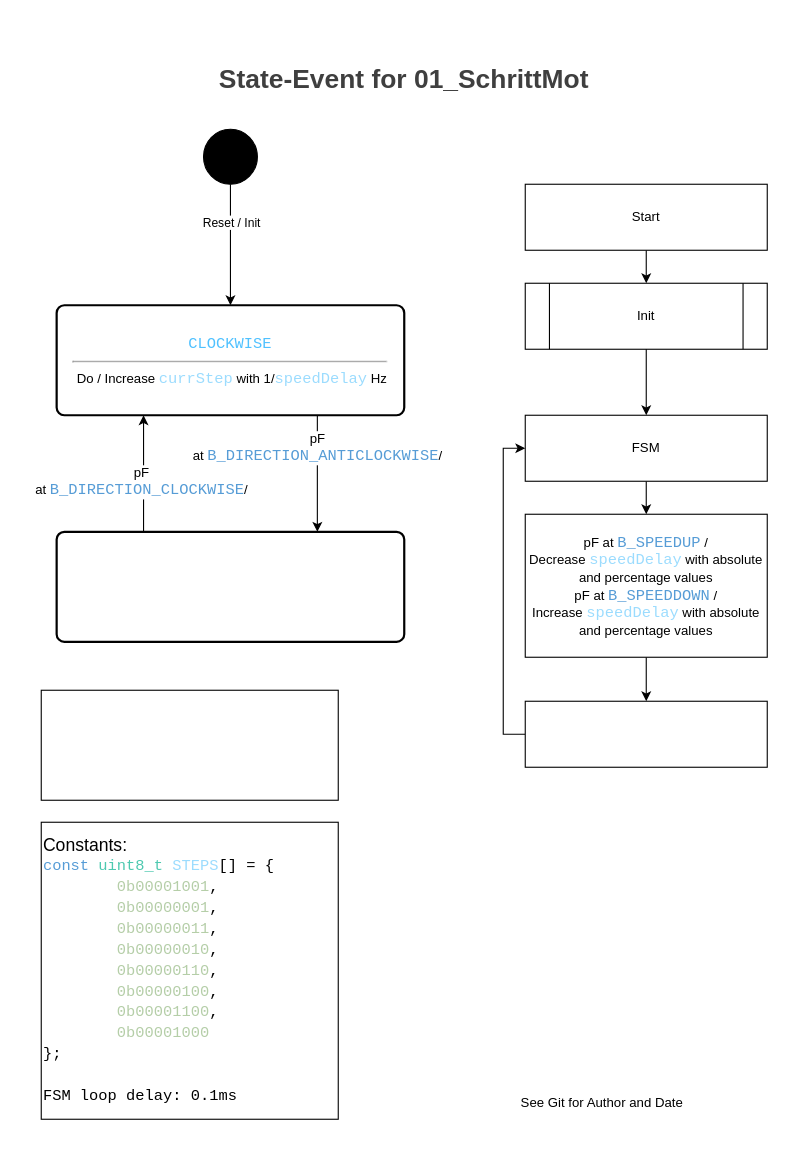
Some shapes in this 807 by 1159 pixel diagram are drawn without their labels. Here are the shapes that lost their labels. From the top down, the centre of each, then its label:
At pixel 230 586: "ANTICLOCKWISE Do / Decrease currStep with 1/ speedDelay Hz".
At pixel 189 744: "Legend pF = positive Flank".
At pixel 645 733: "Do/Write OUT according to STEPS [ currStep ]".
